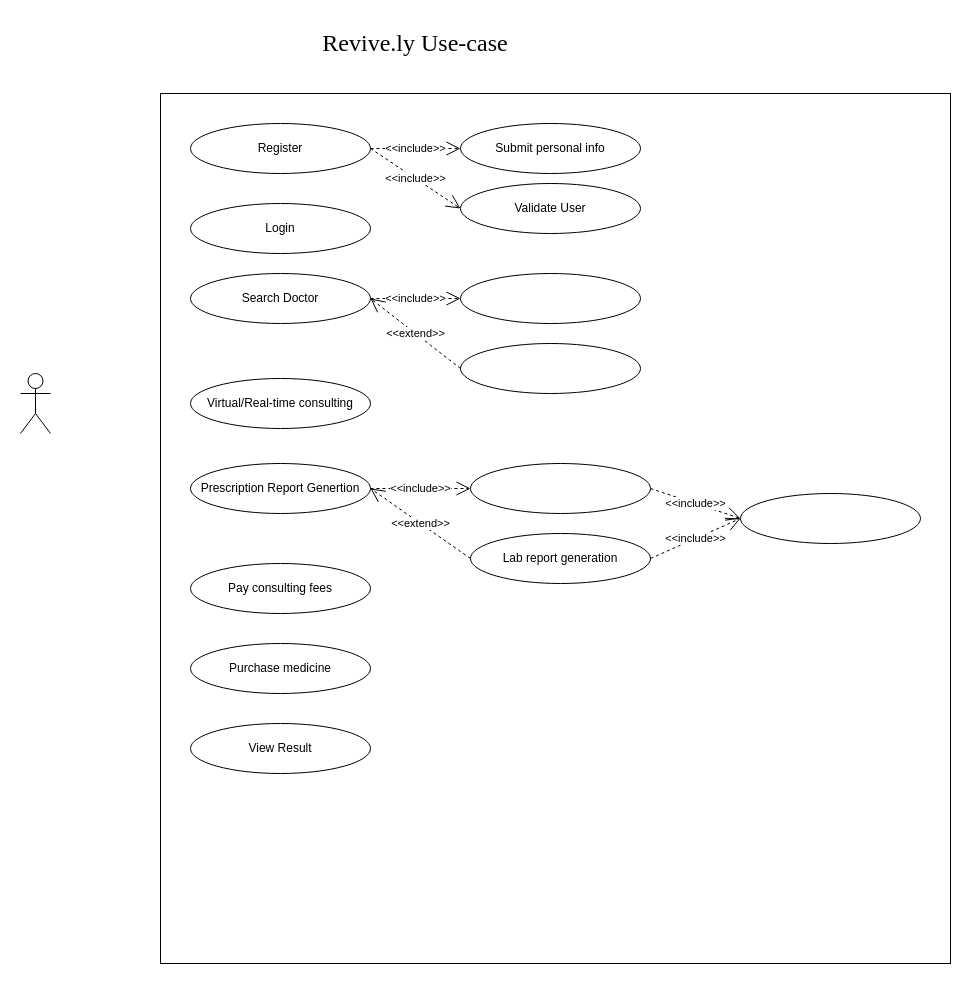
The diagram is 968 pixels wide and 981 high, and some of its shapes have lost their labels. Here are the shapes that lost their labels. From the top down, the centre of each, then its label:
At [550,298]: "Check Availbility".
At [550,368]: "Book Appointment".
At [35,403]: "Patient".
At [560,488]: "Medical report generation".
At [830,518]: "Report analysis".
